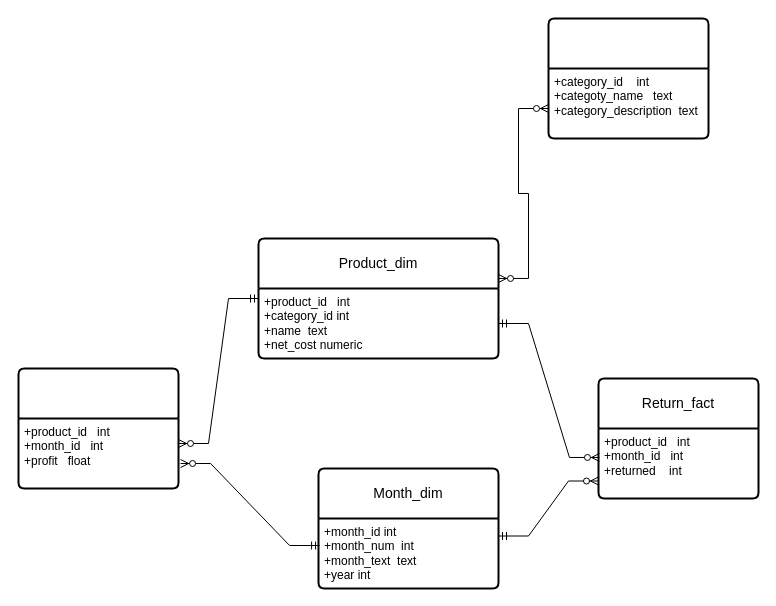
Image size: 776x606. Some labels were removed from this diagram. Here are the shapes that lost their labels. From the top down, the box of each, then its label:
(547, 17, 709, 139): ProductCategory_Dim
(17, 367, 179, 489): Sales_fact
